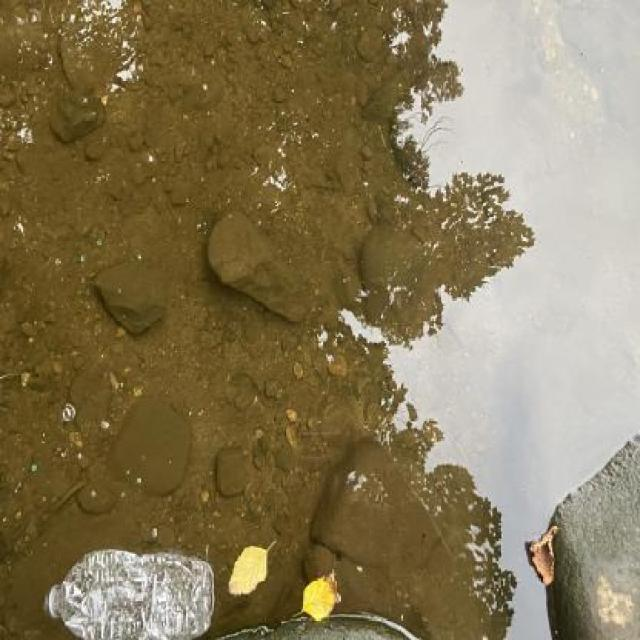Plastic: (41, 544, 221, 640)
